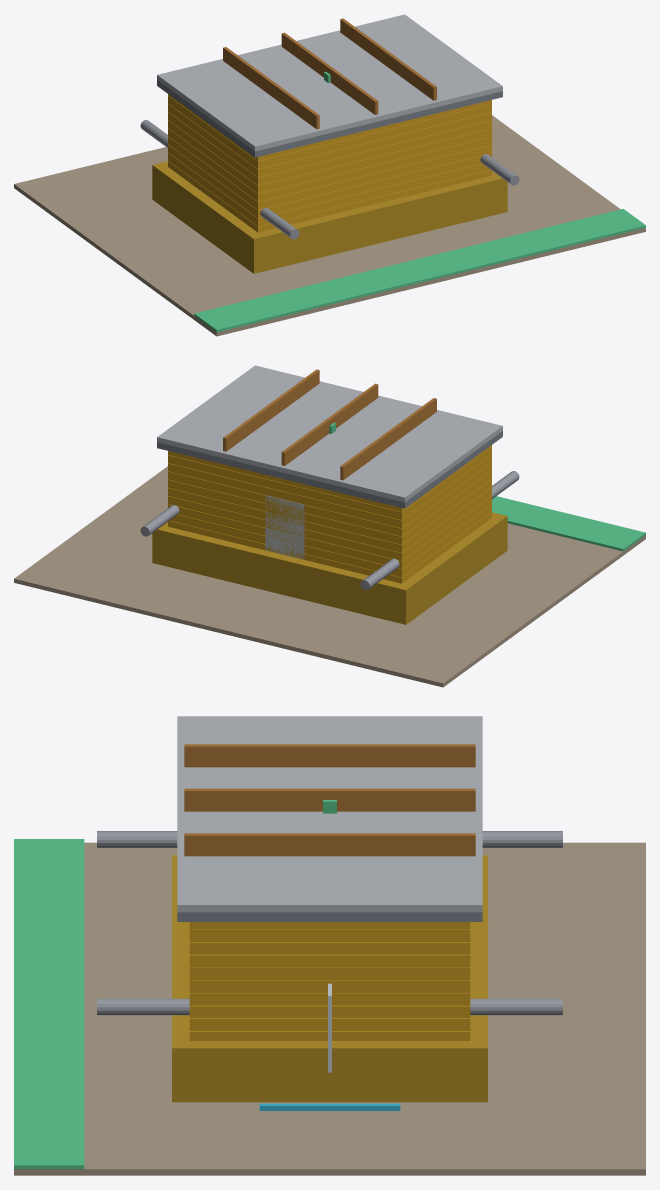
File: stage_12_complete.glb
The picture shows the model from 3 angles, top to bottom: view 1: azimuth 30°, elevation 25°; view 2: azimuth 150°, elevation 25°; view 3: azimuth 270°, elevation 25°; orthographic projection. The views are drawn at different scales.
Parts seen in each view (by area): view 1: world; view 2: world; view 3: world.
Part boxes in pixels (left/top/right/bottom): world: left=14, top=14, right=645, bottom=336; world: left=14, top=365, right=645, bottom=687; world: left=14, top=716, right=645, bottom=1175.
Bounding box in the file's own units: 11 × 4.2 × 9.
